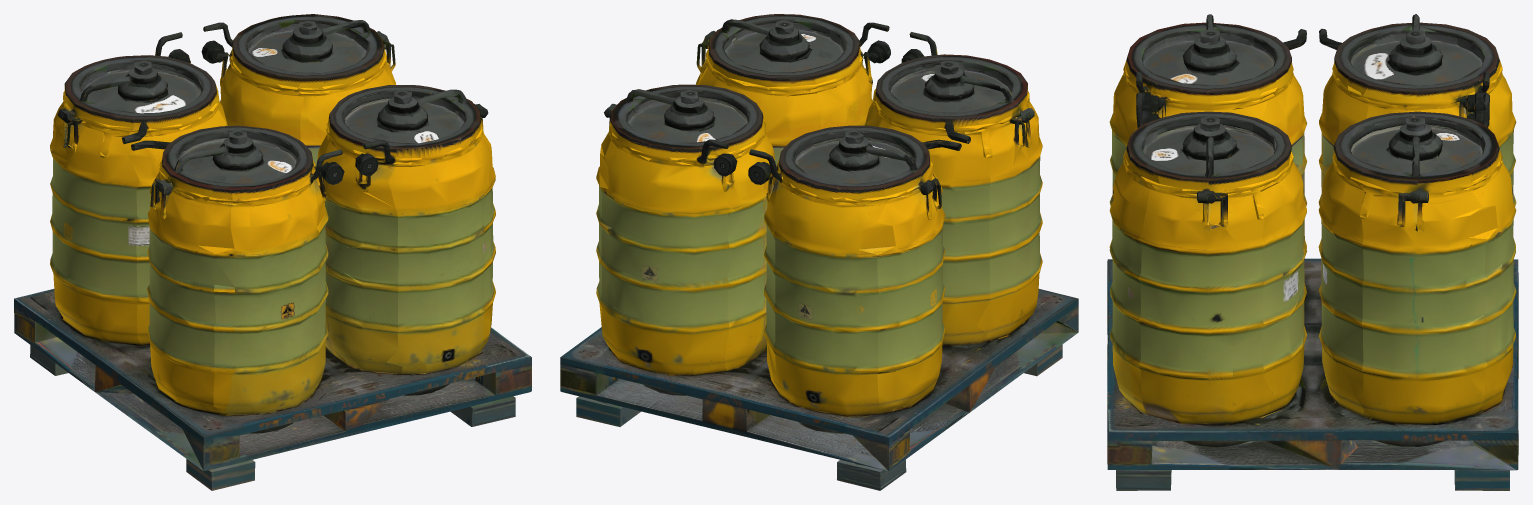
The model's file is Meshy_AI_Chemical_Drum_Cluster_source.glb.
The picture shows the model from 3 angles, left to right: view 1: azimuth 30°, elevation 25°; view 2: azimuth 150°, elevation 25°; view 3: azimuth 270°, elevation 25°; orthographic projection. The views are drawn at different scales.
Bounding box in the file's own units: 1.9 × 1.7 × 1.9.
1 material, 1 textured.
